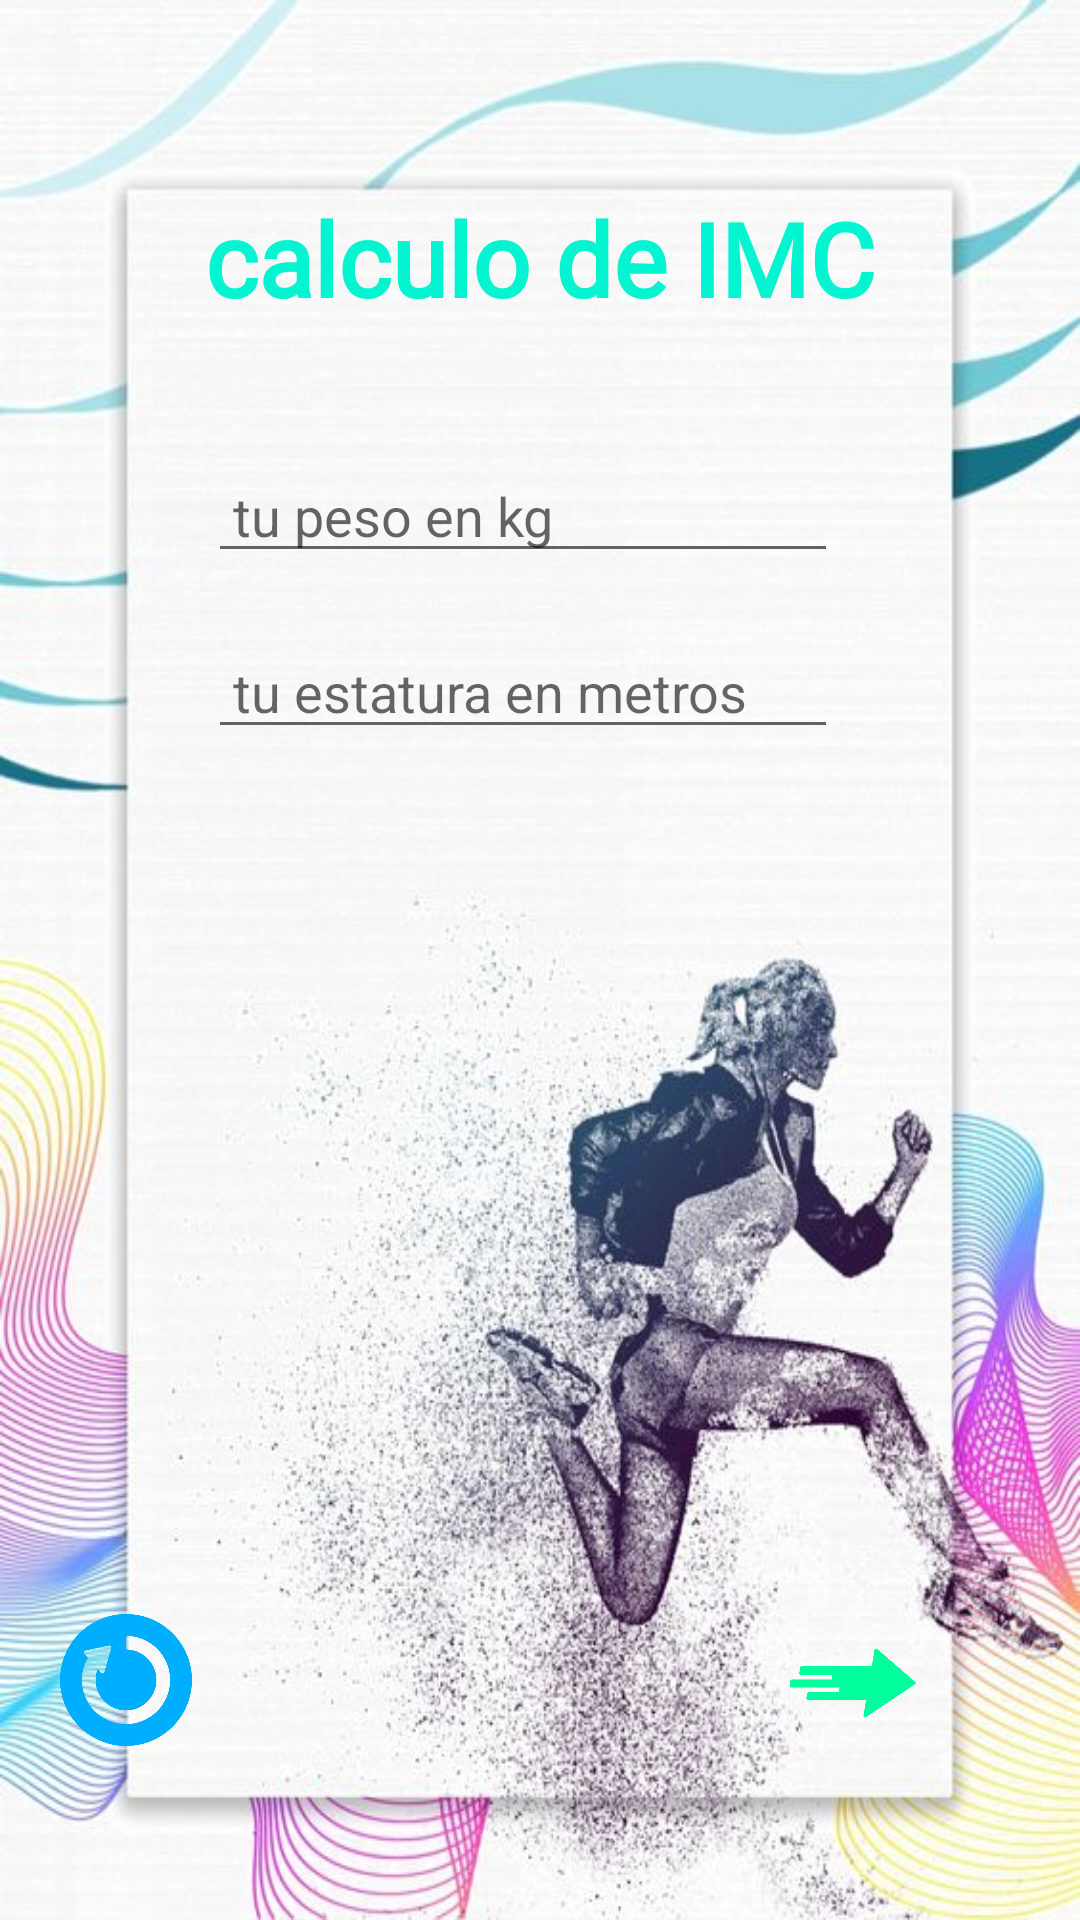

Icons on this 1080w x 1920h Android screen, each with the point to tap as [x,y]:
refresh: [126,1680]
